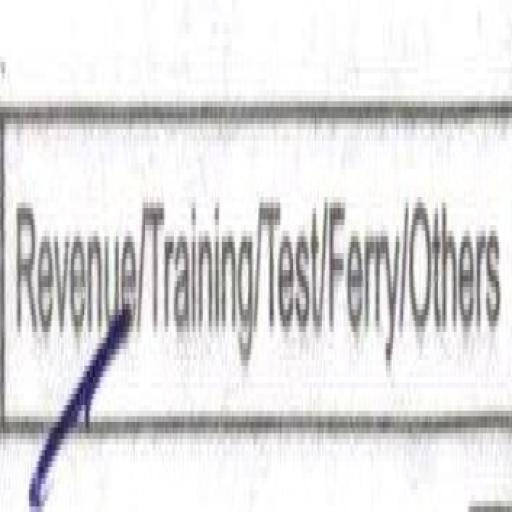check: (5, 44, 137, 509)
